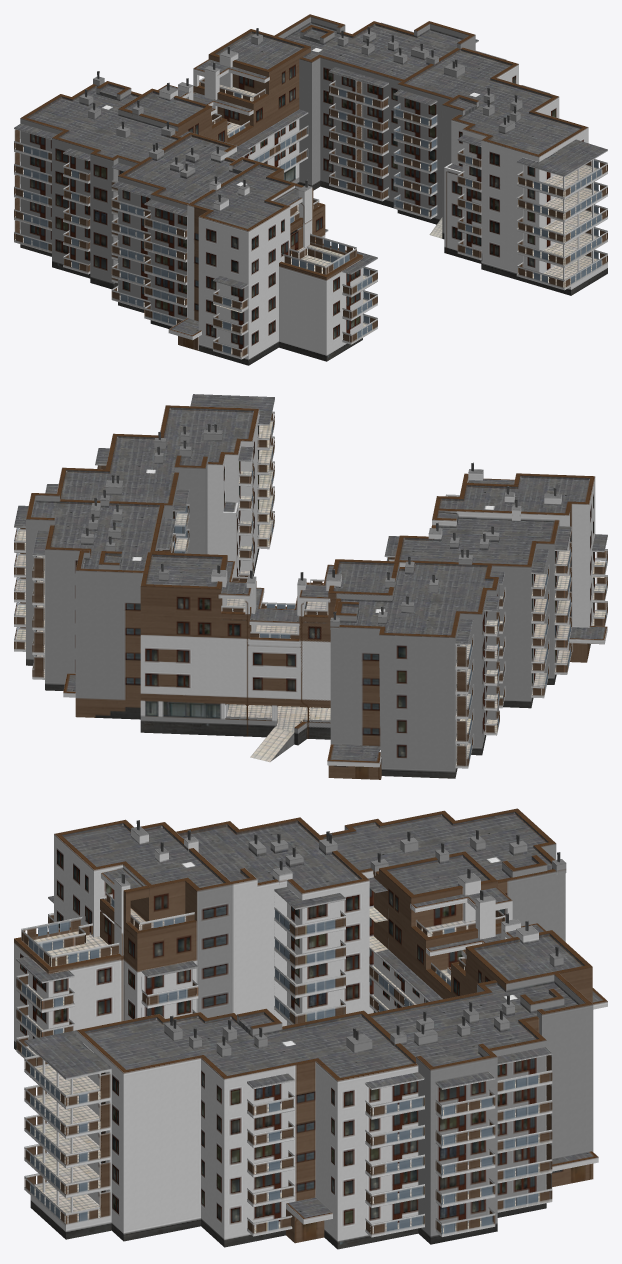
Rendered from example.glb.
The picture shows the model from 3 angles, top to bottom: view 1: azimuth 30°, elevation 25°; view 2: azimuth 150°, elevation 25°; view 3: azimuth 270°, elevation 25°; orthographic projection. The views are drawn at different scales.
Parts seen in each view (by area): view 1: Object_2; view 2: Object_2; view 3: Object_2.
Part boxes in pixels (left/top/right/bottom): Object_2: left=14, top=14, right=607, bottom=365; Object_2: left=14, top=394, right=607, bottom=779; Object_2: left=14, top=808, right=607, bottom=1249.
Bounding box in the file's own units: 60.97 × 19.33 × 54.65.
1 material, 1 textured.
